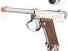gun: (1, 1, 68, 51)
